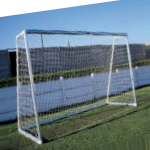goals: (15, 27, 139, 145)
